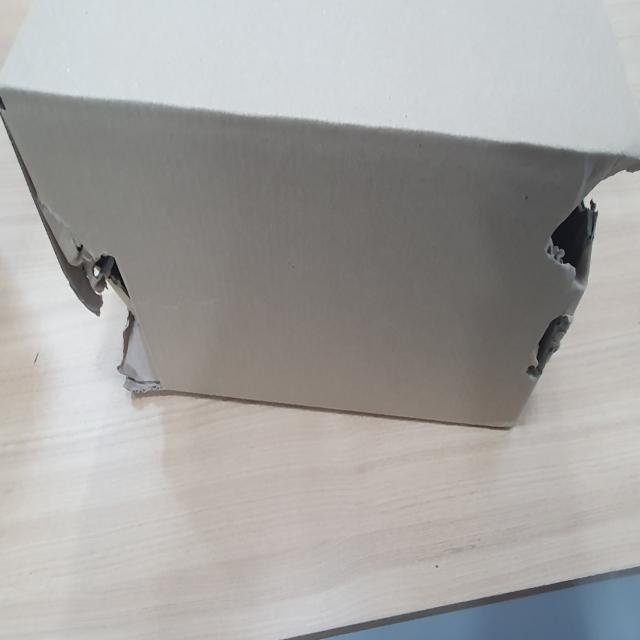hole: (531, 140, 638, 374), (58, 242, 160, 400)
